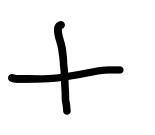plus: (8, 21, 123, 115)
